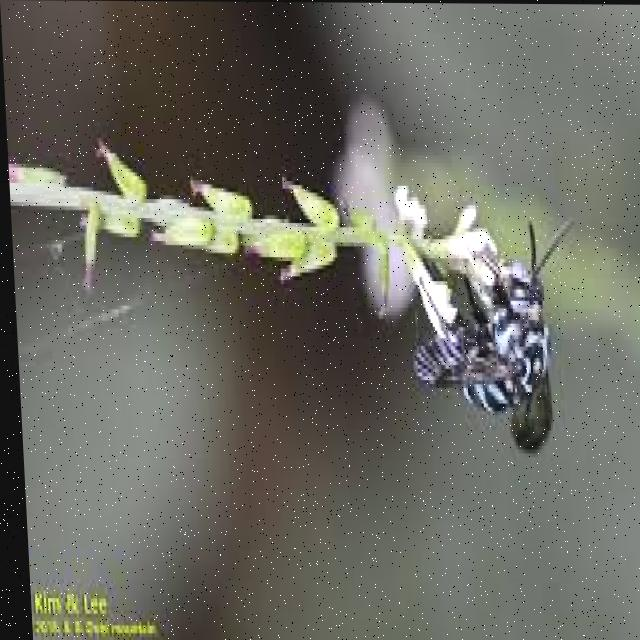Thyreus: (402, 222, 570, 469)
